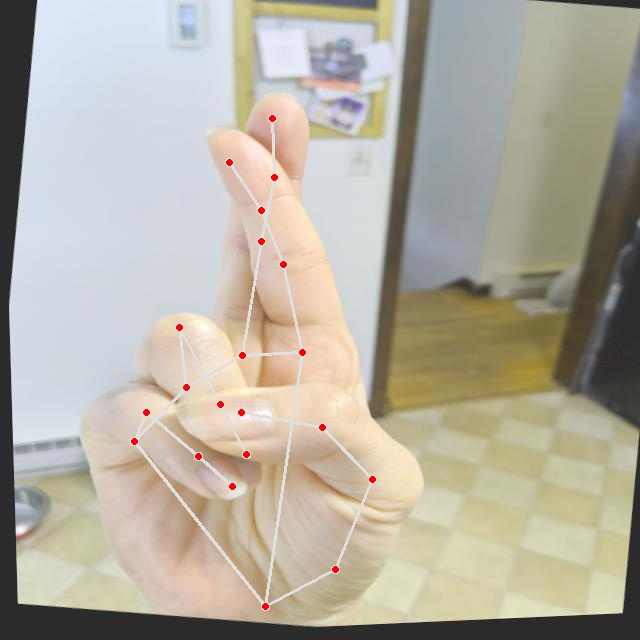R: (39, 60, 481, 638)
